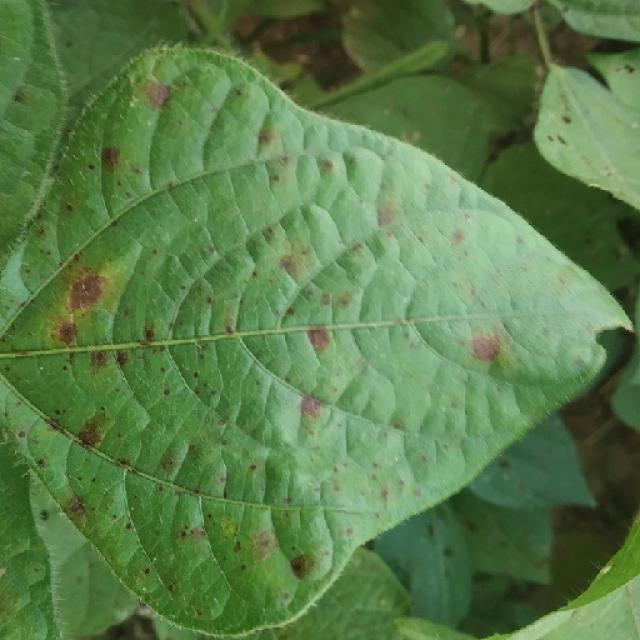Anthracnose: (63, 272, 107, 312), (74, 416, 108, 450), (247, 528, 279, 564), (470, 332, 502, 361), (143, 80, 171, 108), (299, 393, 324, 420), (306, 327, 331, 352), (100, 145, 121, 170), (289, 555, 311, 578), (89, 349, 108, 370), (220, 517, 239, 538), (377, 206, 395, 228), (257, 125, 275, 146), (66, 498, 85, 517), (114, 349, 130, 369), (279, 256, 295, 275), (336, 292, 353, 309), (161, 456, 177, 472), (450, 229, 465, 246), (188, 526, 206, 540), (143, 326, 157, 342), (12, 89, 28, 103), (320, 159, 333, 171), (321, 293, 331, 306), (225, 326, 235, 336), (561, 115, 572, 124), (624, 64, 635, 73)
Blackgram: (0, 4, 631, 639)
